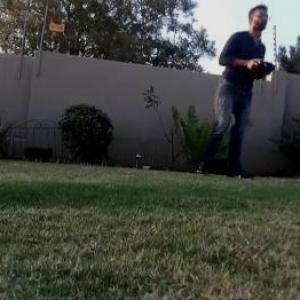follow: (193, 0, 278, 187)
